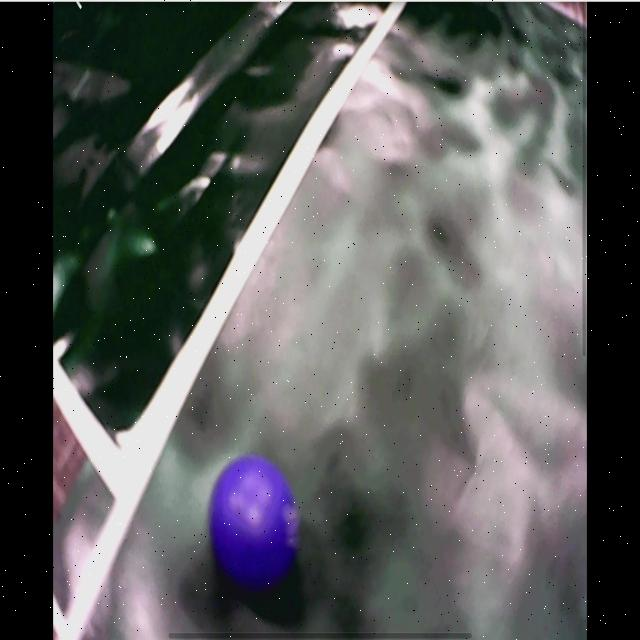ball: (209, 455, 300, 593)
